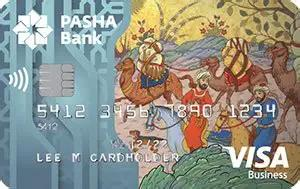Pasha Bank: (12, 8, 55, 51)
